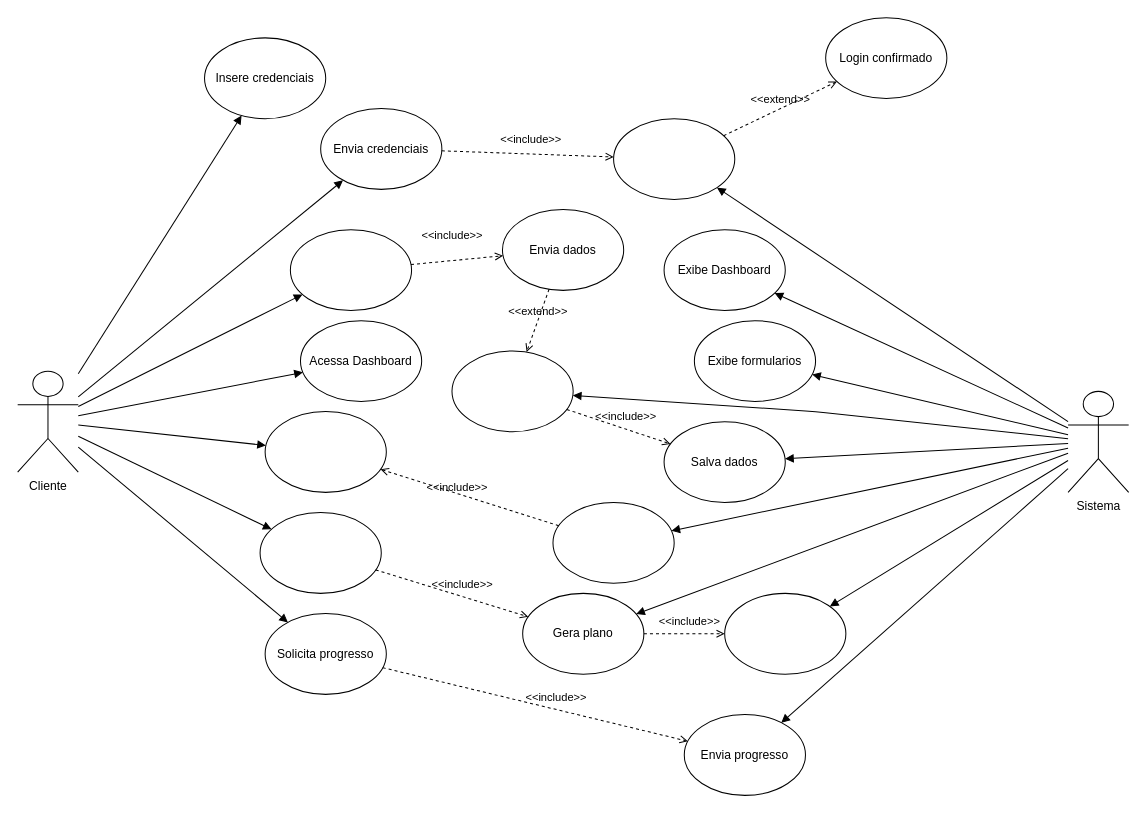
Some shapes in this 1146 by 813 pixel diagram are drawn without their labels. The shapes that lost their labels are listed below. From the top down, each one's centre as x and y in pixels, then its label:
At point 674,158: "Verifica credenciais".
At point 350,270: "Preenche dados".
At point 512,391: "Calcula % gordura".
At point 325,451: "Responde objetivo".
At point 320,552: "Solicita plano".
At point 613,542: "Pergunta objetivo".
At point 785,633: "Salvo plano".
